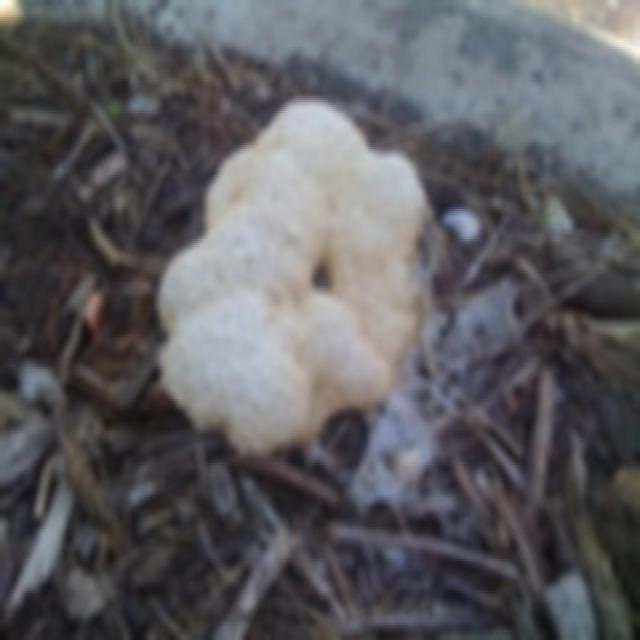Dog_vomit_slime_mold: (130, 75, 479, 471)
